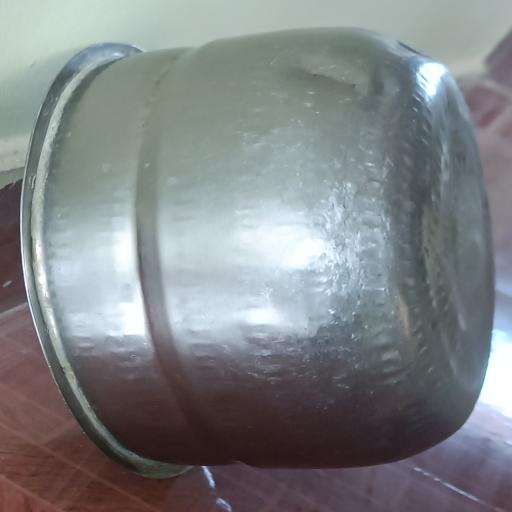vessel: (22, 29, 493, 477)
